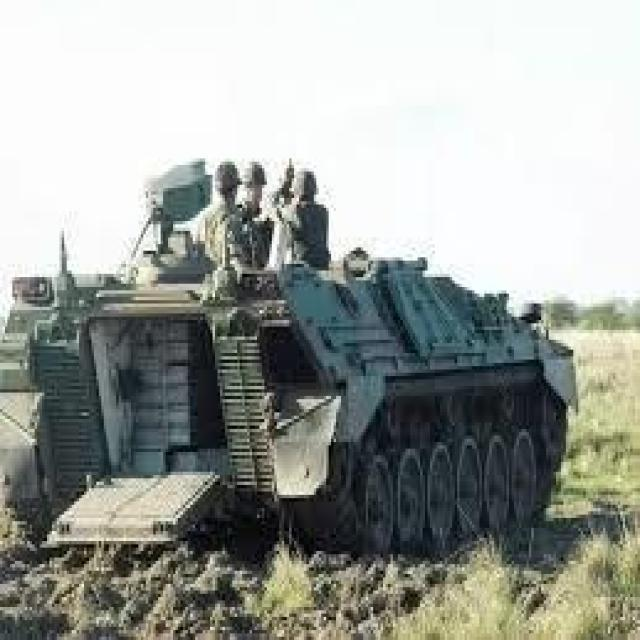Tanks: (18, 211, 584, 577)
